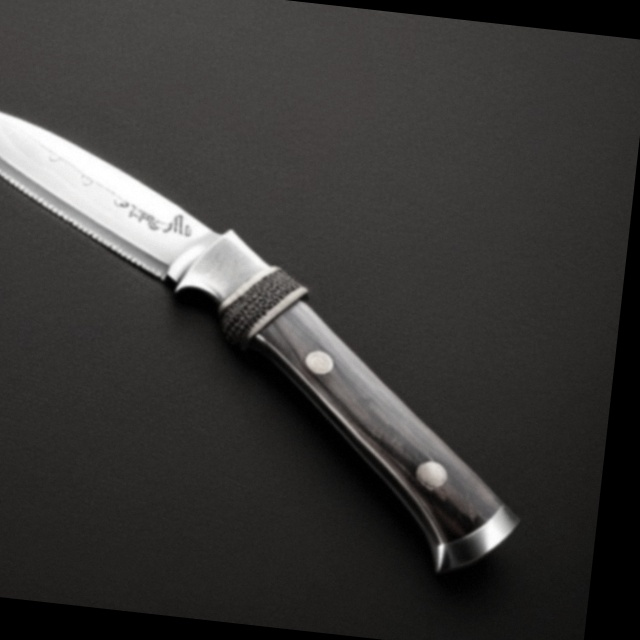Sharp-Object: (0, 16, 624, 622)
